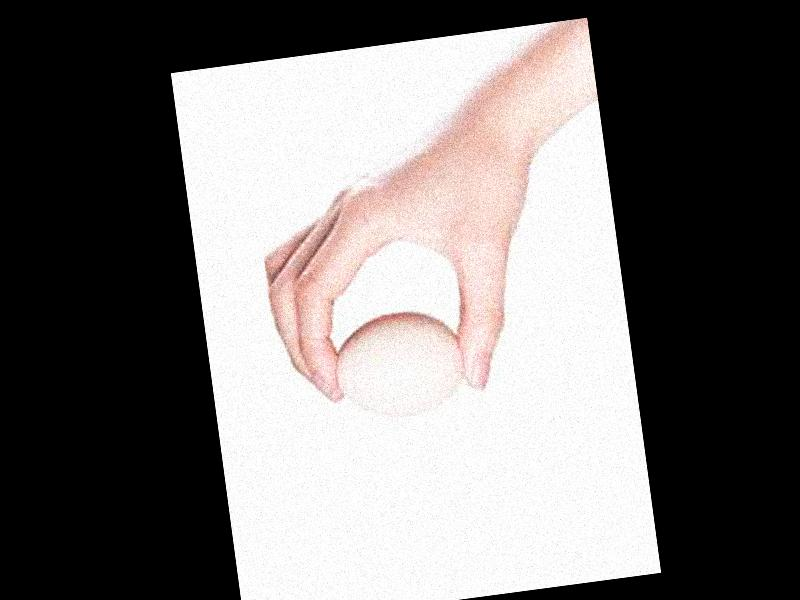Eggs: (328, 305, 470, 424)
